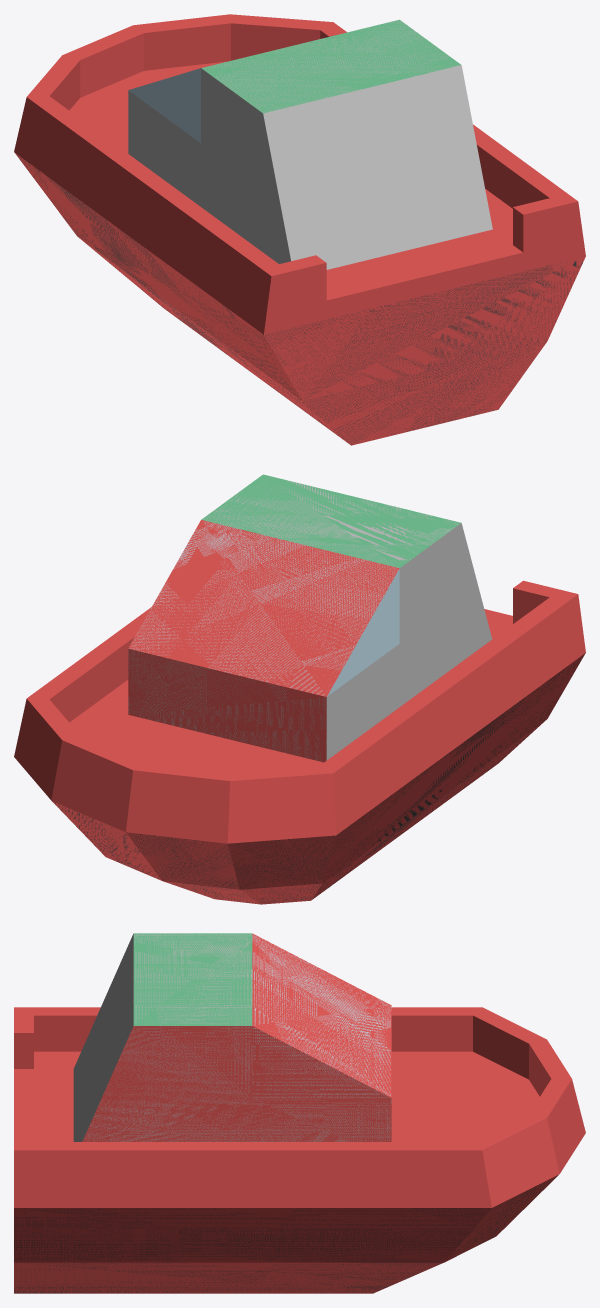
File: boat_007.dae
3 renders of one model, top to bottom at view 1: azimuth 30°, elevation 25°; view 2: azimuth 150°, elevation 25°; view 3: azimuth 270°, elevation 25°, orthographic. The views are drawn at different scales.
Visible parts, largest first — view 1: boat_007; view 2: boat_007; view 3: boat_007.
Part boxes in pixels (<box>): boat_007: <box>14,14,585,445</box>; boat_007: <box>14,474,585,904</box>; boat_007: <box>14,933,585,1293</box>.
Bounding box in the file's own units: 1.78 × 1.55 × 2.87.
